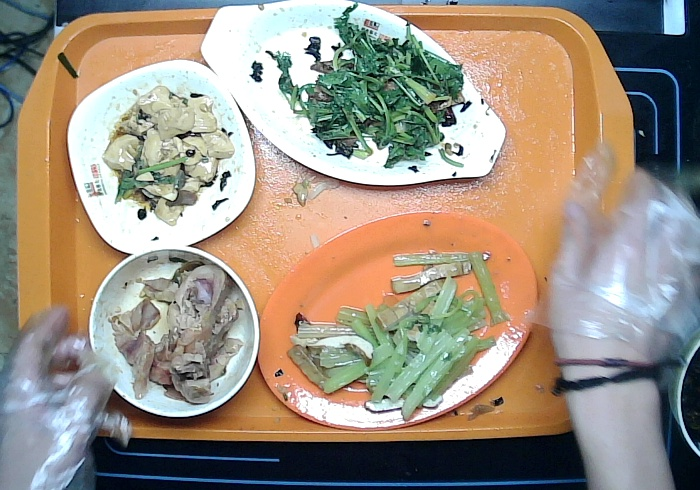NLDX-Bai_Se_Xiao_Fang_Die: (67, 59, 255, 256)
NLDX-Fan_Wan: (88, 245, 262, 419)
NLDX-Ju_Se_Pan: (258, 210, 539, 431)
NLDX-Yu_Pan: (200, 1, 506, 186)
